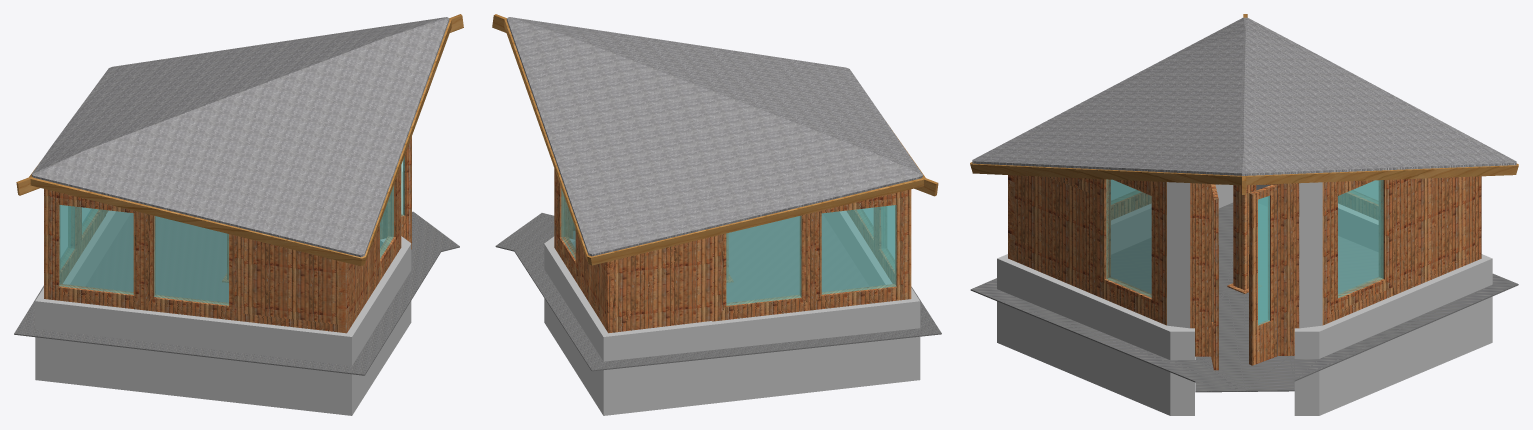
Rendered from SkillBoxPraticeBlender(4.2)(переделка нормали Face)(1).fbx.
3 renders of one model, left to right at view 1: azimuth 30°, elevation 25°; view 2: azimuth 150°, elevation 25°; view 3: azimuth 270°, elevation 25°, orthographic. The views are drawn at different scales.
Parts seen in each view (by area): view 1: Крыша.001, Фундамент, Стены, внешняя окантовка, Окна(стекло), Крыша, Стойки; view 2: Крыша.001, Фундамент, Стены, внешняя окантовка, Окна(стекло), Крыша, Стойки; view 3: Крыша.001, Фундамент, Стены, внешняя окантовка, Окна(стекло), Стойки, Крыша.
Boxes of the visible parts, x1,y1,x2,y2 form: Крыша.001: [31, 17, 449, 257]; Фундамент: [35, 210, 411, 415]; Стены: [52, 136, 411, 332]; внешняя окантовка: [14, 211, 459, 375]; Окна(стекло): [59, 156, 404, 305]; Крыша: [16, 14, 463, 266]; Стойки: [44, 165, 401, 333]; Крыша.001: [506, 17, 923, 256]; Фундамент: [544, 211, 920, 415]; Стены: [556, 174, 902, 332]; внешняя окантовка: [495, 213, 941, 371]; Окна(стекло): [561, 188, 896, 305]; Крыша: [492, 14, 938, 265]; Стойки: [554, 168, 911, 333]; Крыша.001: [972, 17, 1516, 175]; Фундамент: [997, 182, 1492, 415]; Стены: [1014, 175, 1474, 370]; внешняя окантовка: [970, 202, 1518, 392]; Окна(стекло): [1106, 179, 1383, 325]; Стойки: [1008, 175, 1481, 356]; Крыша: [970, 14, 1518, 194].
Bounding box in the file's own units: 893 × 498 × 885.
